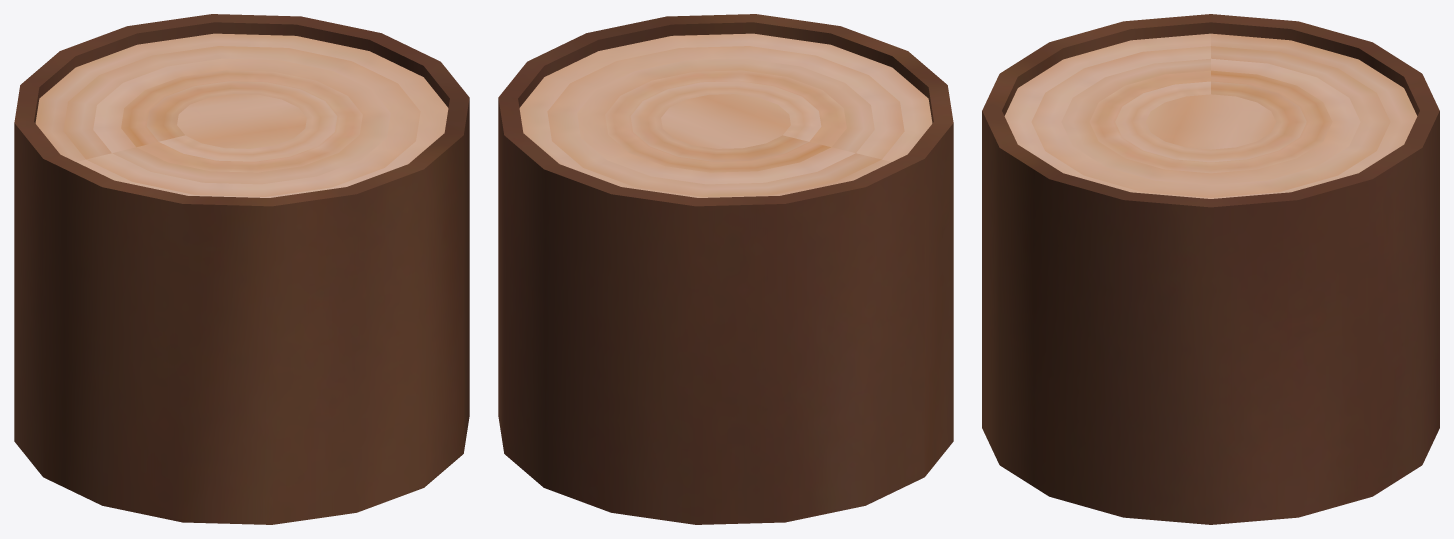
File: log.fbx
3 views of the same model, side by side, from view 1: azimuth 30°, elevation 25°; view 2: azimuth 150°, elevation 25°; view 3: azimuth 270°, elevation 25° (orthographic).
Parts seen in each view (by area): view 1: Circle.001; view 2: Circle.001; view 3: Circle.001.
Part boxes in pixels (x1,y1,x2,y2): Circle.001: [14, 14, 469, 524]; Circle.001: [498, 14, 953, 524]; Circle.001: [982, 14, 1439, 524].
Size of the model in its own units: 2 by 1.53 by 2.
